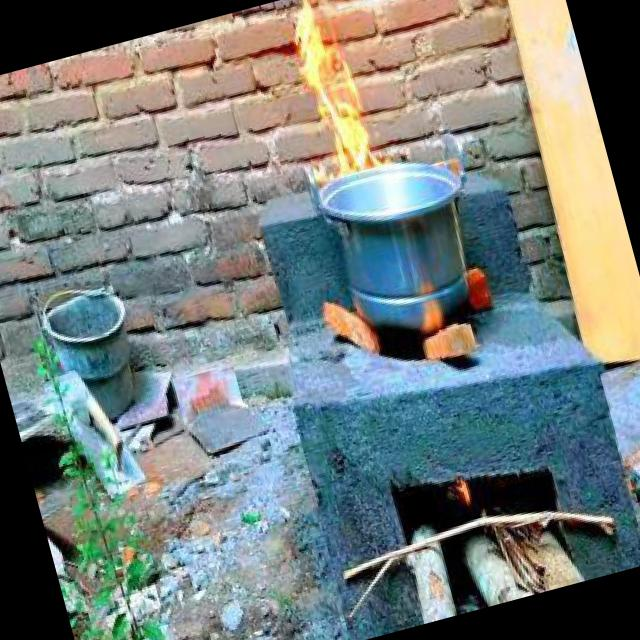Fire: (266, 0, 399, 206), (405, 262, 458, 342), (448, 462, 478, 509)
